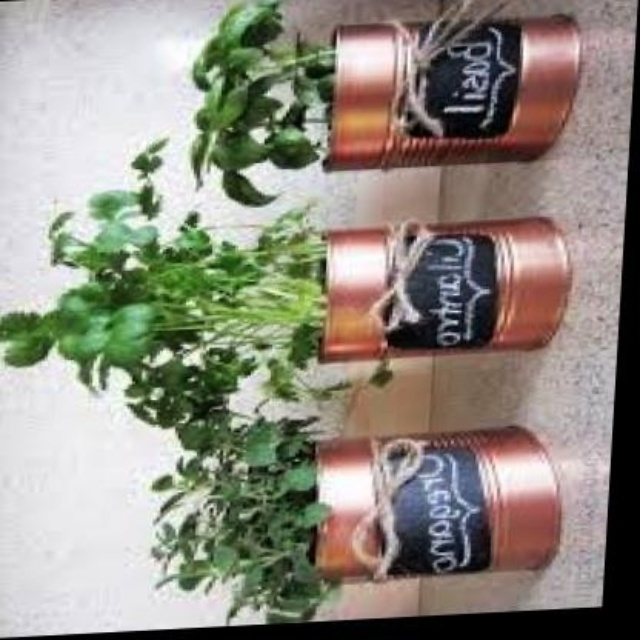trash: (329, 17, 578, 168), (317, 426, 560, 577), (322, 218, 568, 358)
